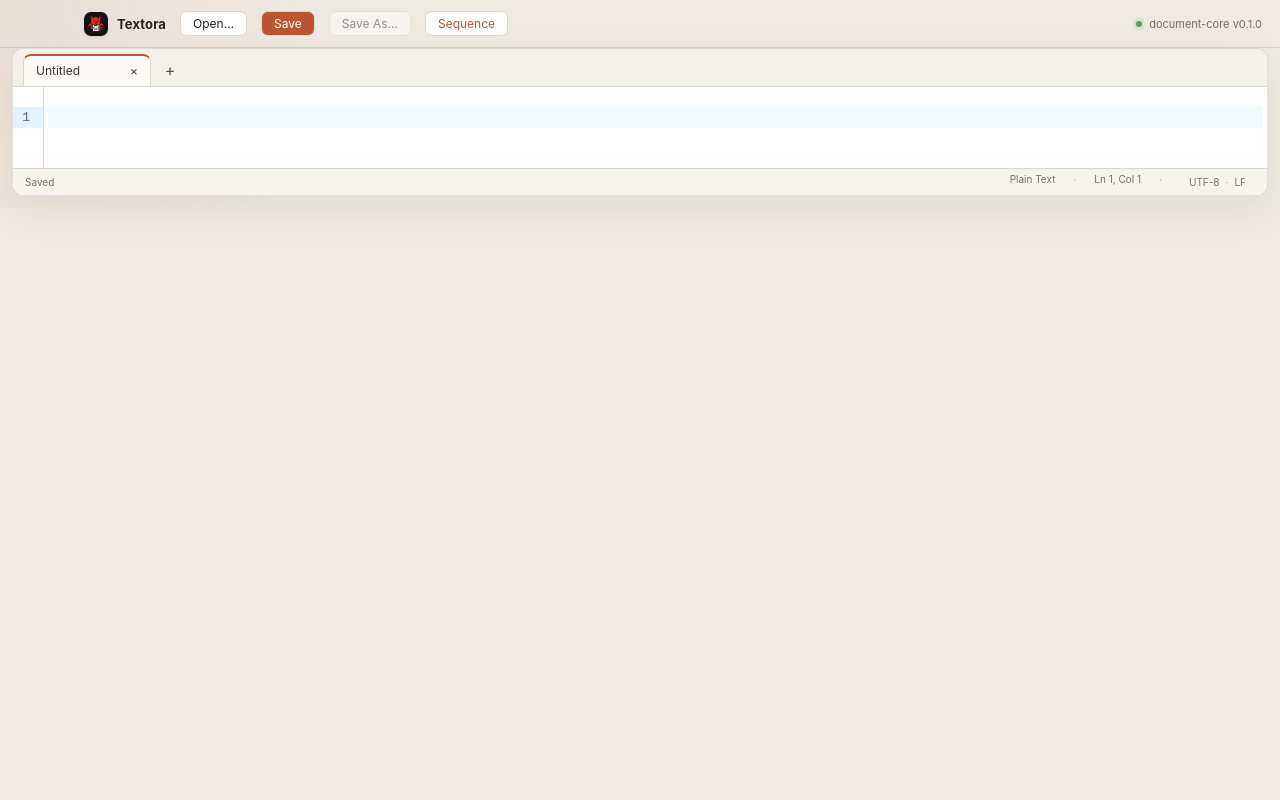
Test: App save entry › allows a fresh untitled document to enter first save
What coordinates should you click on to do the following:
click the button with class "save-button"
I would click on:
 (288, 24)
Its box is x1=261 y1=11 x2=315 y2=36.
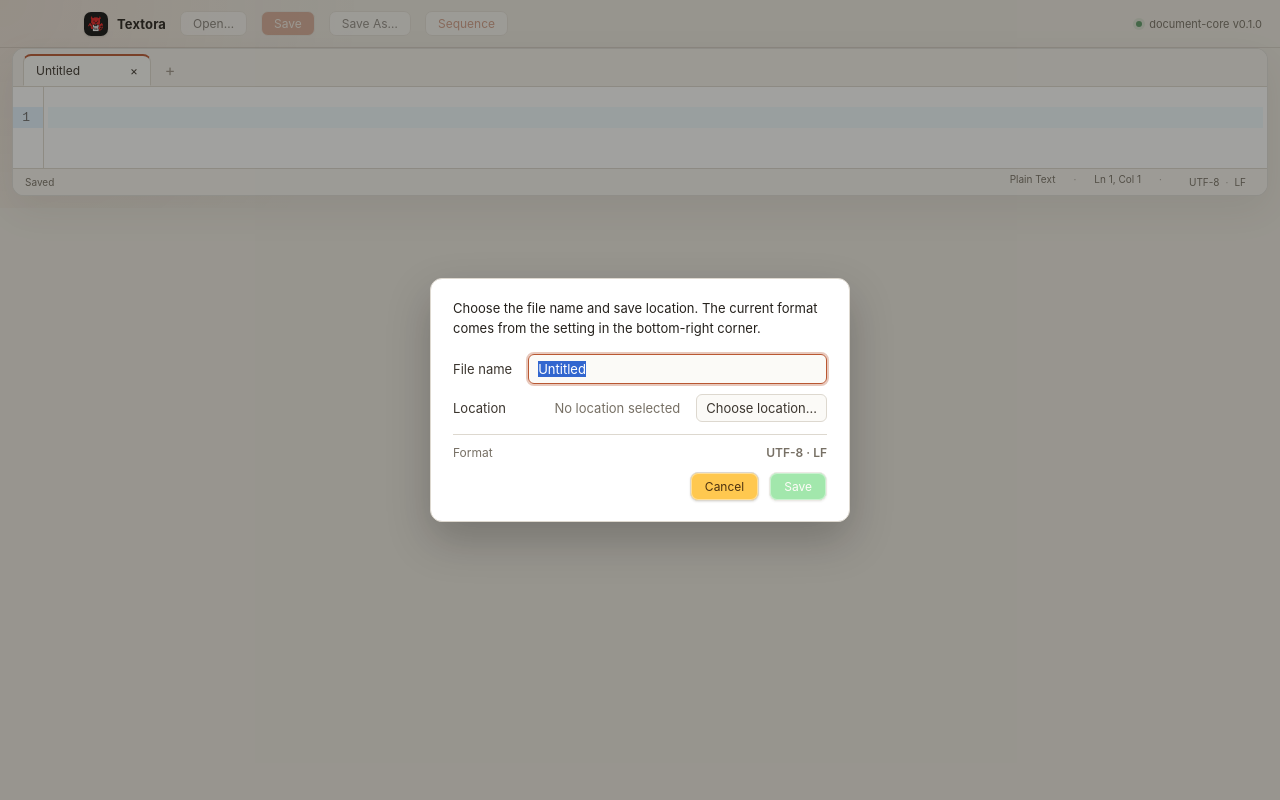
Check: the element with class "save-as-dialog" is shown, box x1=430 y1=278 x2=850 y2=522
